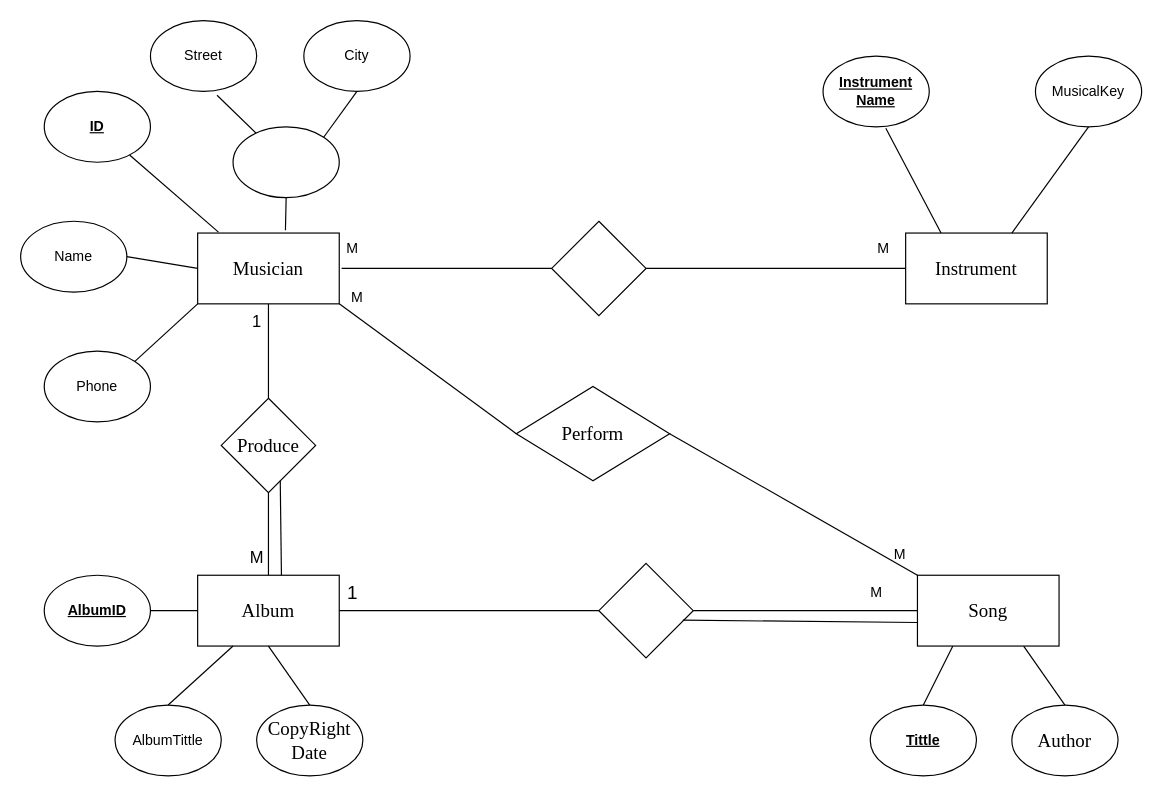
Image size: 1162x796. Some labels were removed from this diagram. The centre of each missing label's shape, as x and y in pixels:
Address: [285,162]
Has: [645,610]
Play: [598,268]
